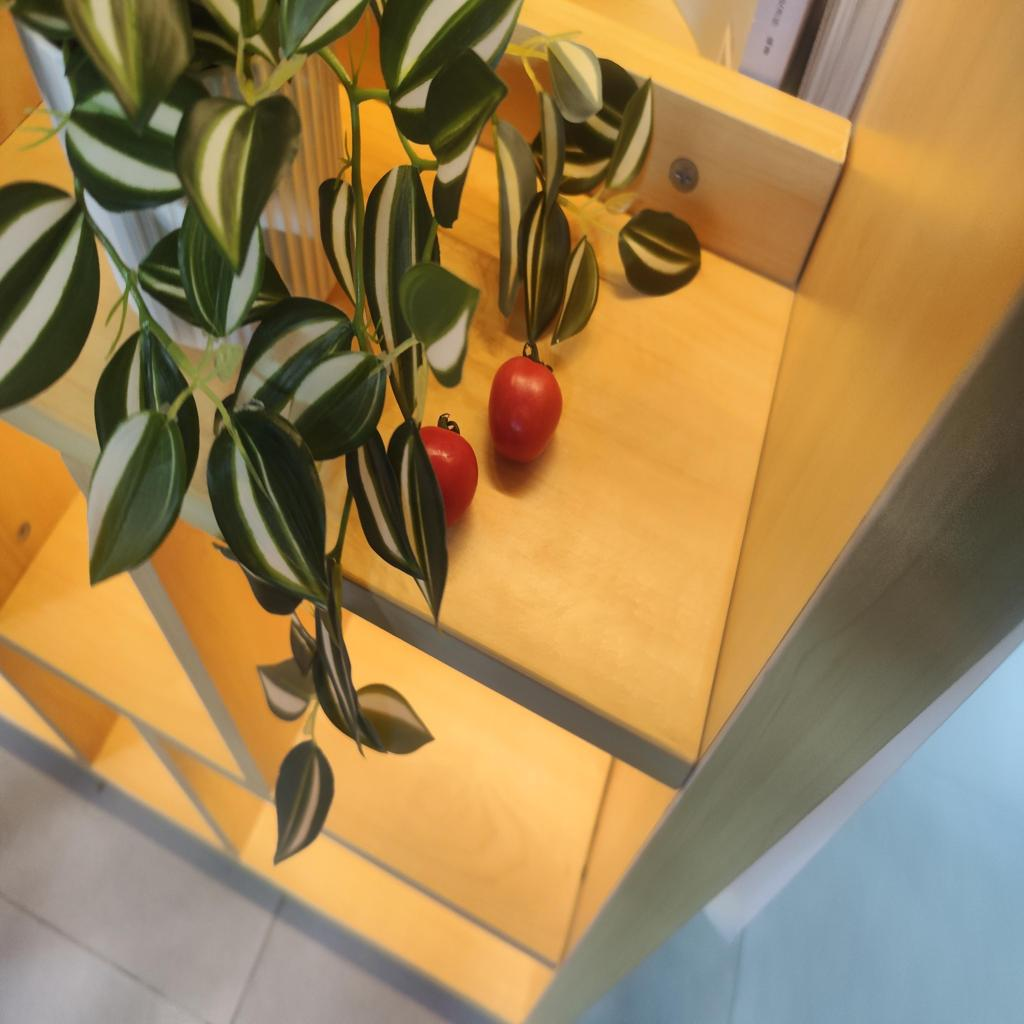tomato: (490, 342, 564, 479), (406, 408, 478, 528)
